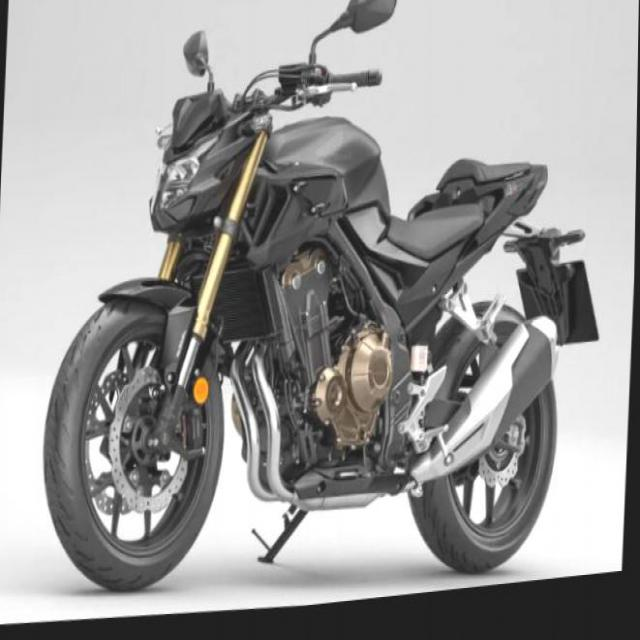CB500F: (38, 0, 617, 629)
